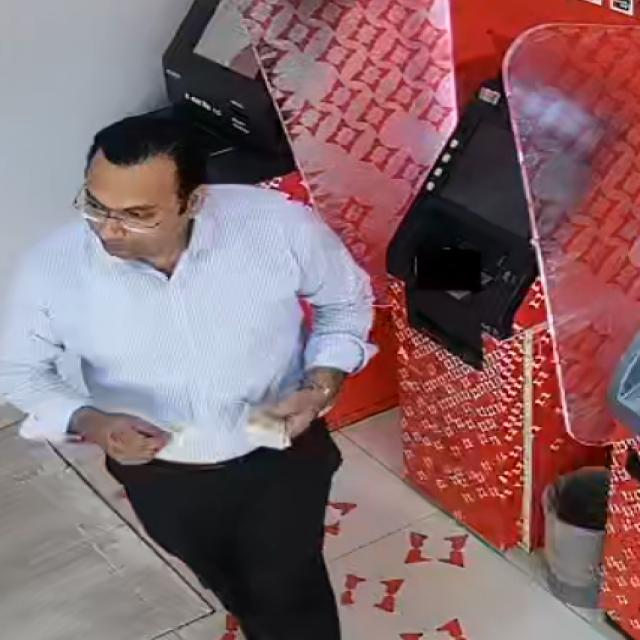note: (222, 396, 305, 460)
